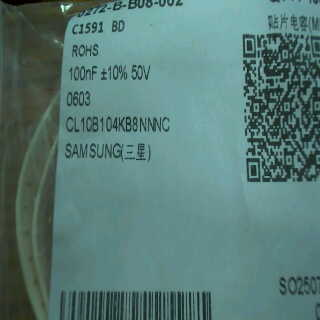100nF: (67, 65, 101, 84)
